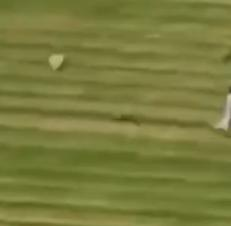ball: (44, 48, 74, 76)
